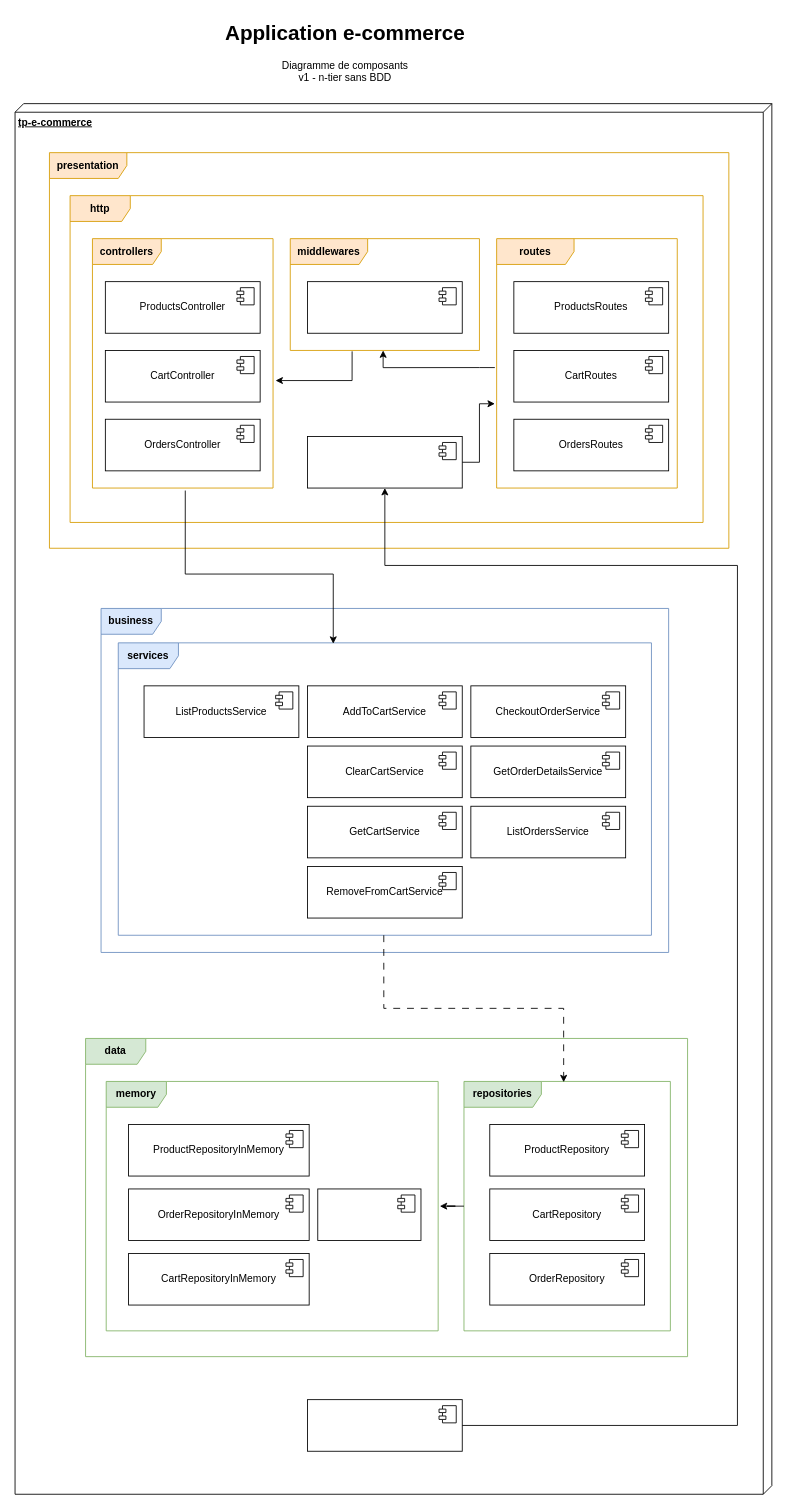
The diagram is 787 pixels wide and 1509 high, and some of its shapes have lost their labels. The centre of each missing label's shape, as x and y in pixels:
"app" belongs at point 384,462.
"errorMiddleware" belongs at point 384,307.
"index" belongs at point 384,1425.
"state" belongs at point 369,1214.
